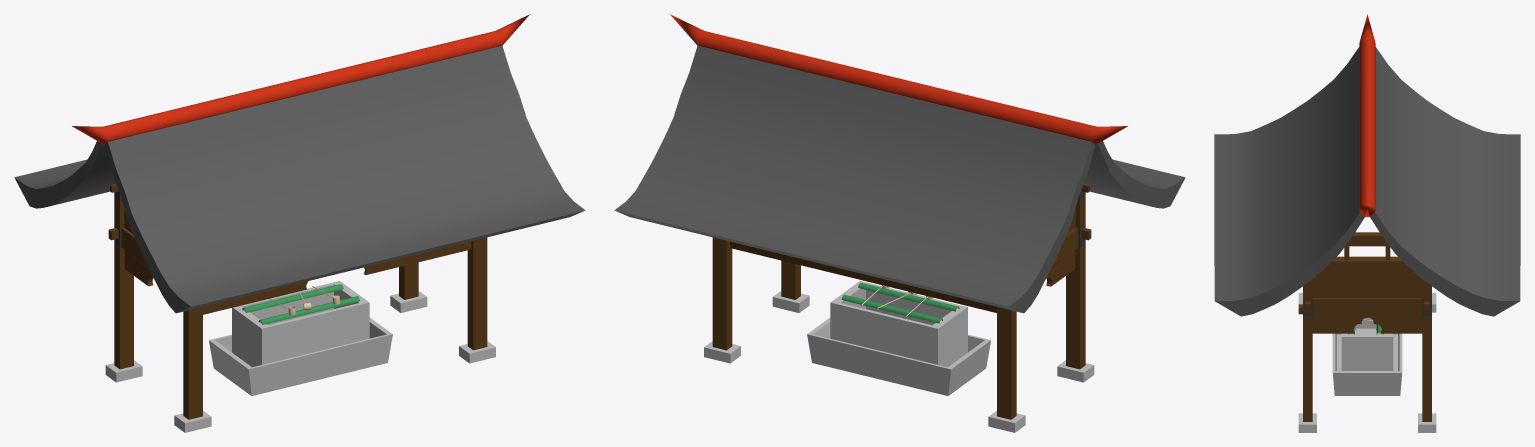
File: temizuya_02.fbx
3 views of the same model, side by side, from view 1: azimuth 30°, elevation 25°; view 2: azimuth 150°, elevation 25°; view 3: azimuth 270°, elevation 25° (orthographic). The views are drawn at different scales.
Visible parts, largest first — view 1: pCylinder1, pCube15, polySurface1, polySurface5, pCylinder11; view 2: pCylinder1, pCube15, polySurface1, polySurface5, pCylinder11; view 3: pCylinder1, polySurface5, pCube15, polySurface1, polySurface9.
Boxes of the visible parts, x1,y1,x2,y2 form: pCylinder1: [14, 14, 585, 313]; pCube15: [209, 281, 392, 395]; polySurface1: [105, 184, 495, 432]; polySurface5: [121, 199, 471, 314]; pCylinder11: [242, 284, 359, 324]; pCylinder1: [614, 14, 1185, 313]; pCube15: [807, 281, 990, 395]; polySurface1: [704, 184, 1094, 432]; polySurface5: [730, 199, 1078, 312]; pCylinder11: [841, 282, 959, 323]; pCylinder1: [1214, 14, 1520, 316]; polySurface5: [1312, 256, 1422, 333]; pCube15: [1332, 317, 1402, 395]; polySurface1: [1298, 279, 1436, 432]; polySurface9: [1344, 232, 1390, 260].
Size of the model in its own units: 39.76 by 24.5 by 26.55.
Materials: 1 (1 with a texture image).
